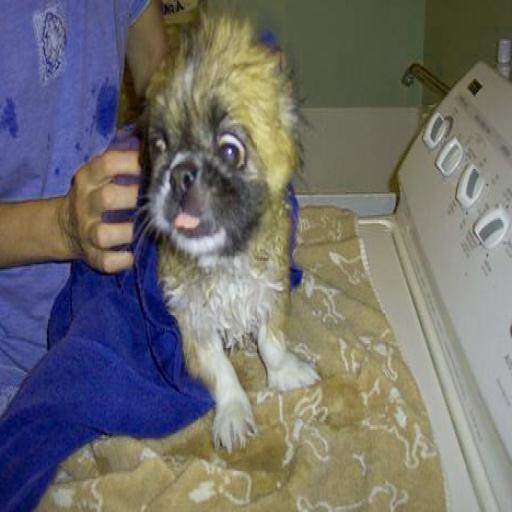dog_face: (139, 37, 296, 242)
